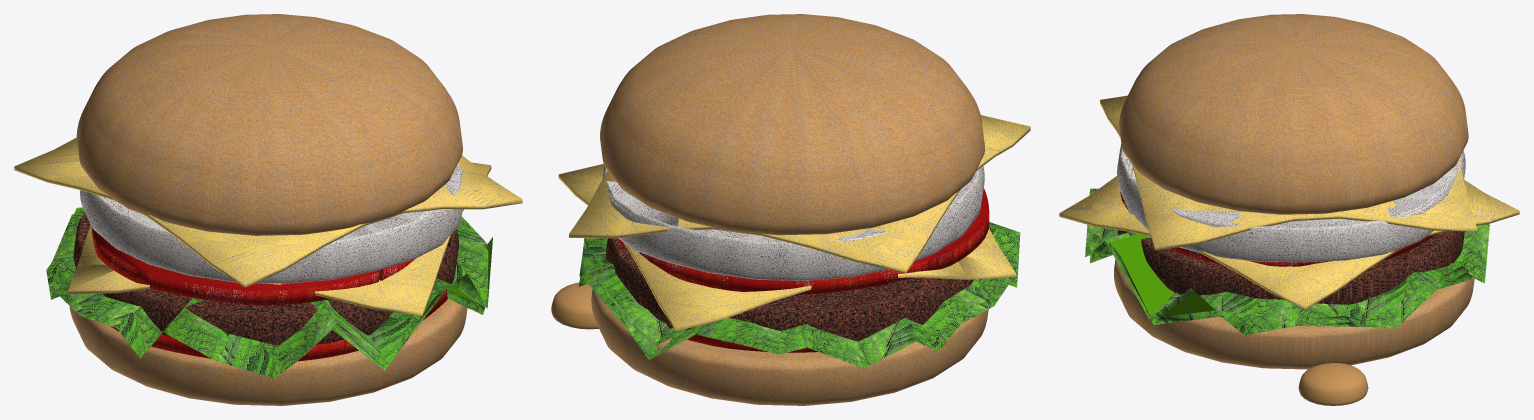
3 views of the same model, side by side, from view 1: azimuth 30°, elevation 25°; view 2: azimuth 150°, elevation 25°; view 3: azimuth 270°, elevation 25° (orthographic). The views are drawn at different scales.
Parts seen in each view (by area): view 1: Hamburger (×10); view 2: Hamburger (×11); view 3: Hamburger (×11).
Part boxes in pixels (left/top/right/bottom): Hamburger (×10): left=14, top=14, right=522, bottom=405; Hamburger (×11): left=551, top=14, right=1030, bottom=405; Hamburger (×11): left=1059, top=14, right=1519, bottom=405.
Bounding box in the file's own units: 163 × 163 × 107.
Materials: 11 (5 with a texture image).
